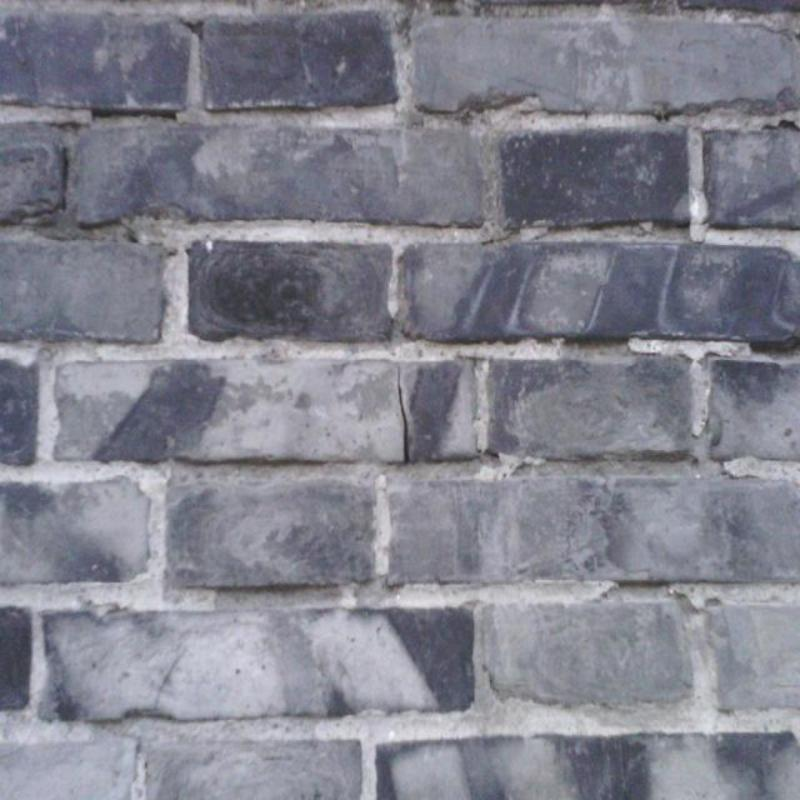pothole: (398, 367, 410, 464), (92, 110, 176, 118), (750, 339, 799, 351), (762, 120, 799, 131), (566, 339, 628, 344)
